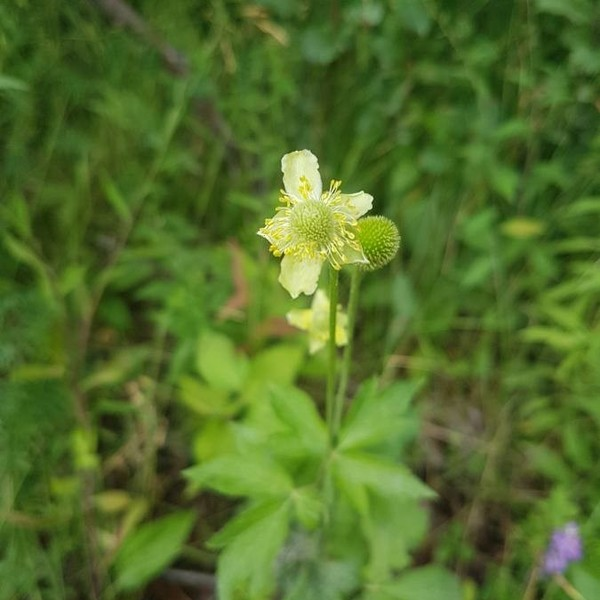obstacle: (180, 167, 435, 562)
